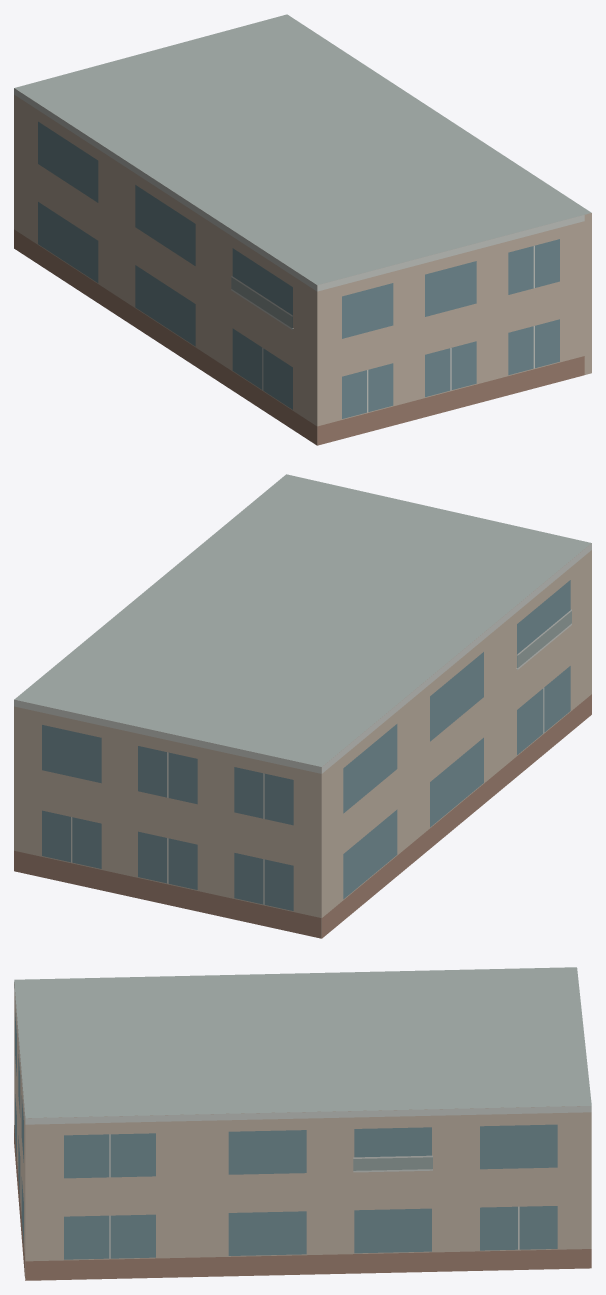
The model's file is survey-upis-32600385.glb.
3 renders of one model, top to bottom at view 1: azimuth 30°, elevation 25°; view 2: azimuth 150°, elevation 25°; view 3: azimuth 270°, elevation 25°, orthographic. The views are drawn at different scales.
Parts seen in each view (by area): view 1: survey-upis-32600385.tmp; view 2: survey-upis-32600385.tmp; view 3: survey-upis-32600385.tmp.
Boxes of the visible parts, x1,y1,x2,y2 form: survey-upis-32600385.tmp: (14,14,591,445); survey-upis-32600385.tmp: (14,474,591,938); survey-upis-32600385.tmp: (14,967,591,1280).
Size of the model in its own units: 12.17 by 6.1 by 19.66.
